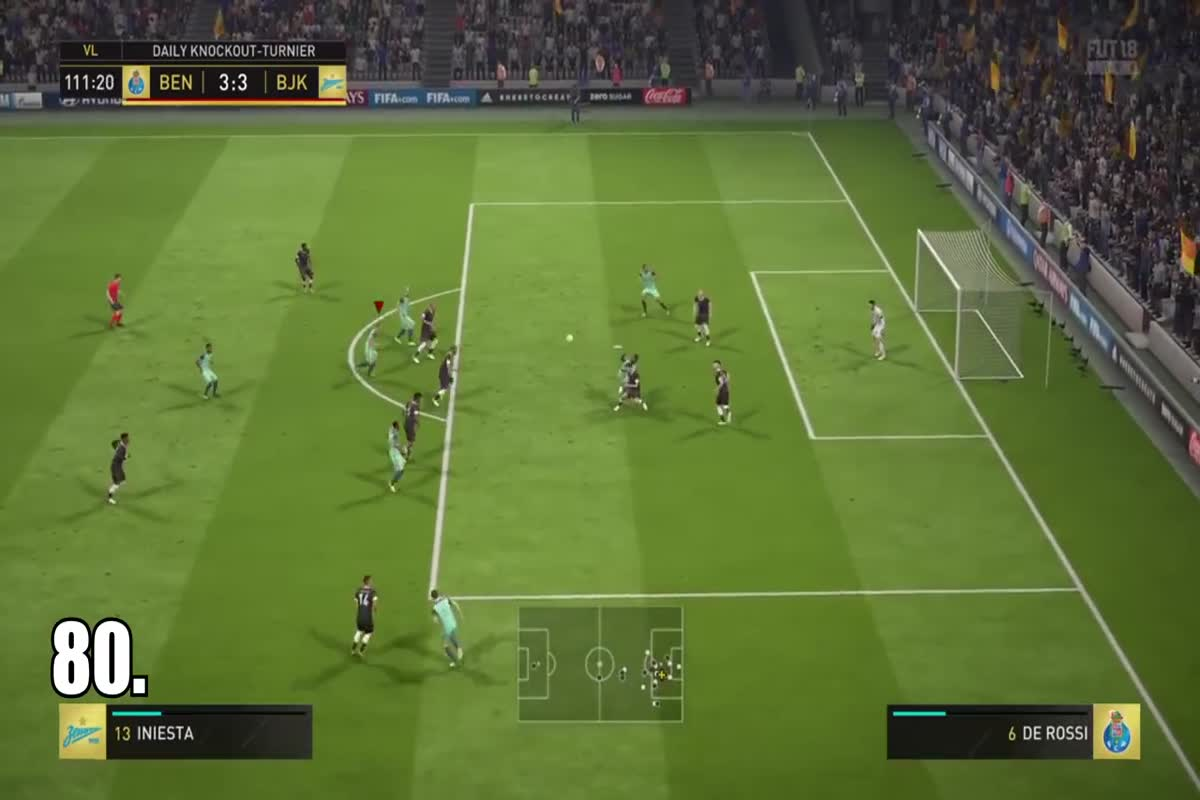ball: (556, 328, 585, 349)
